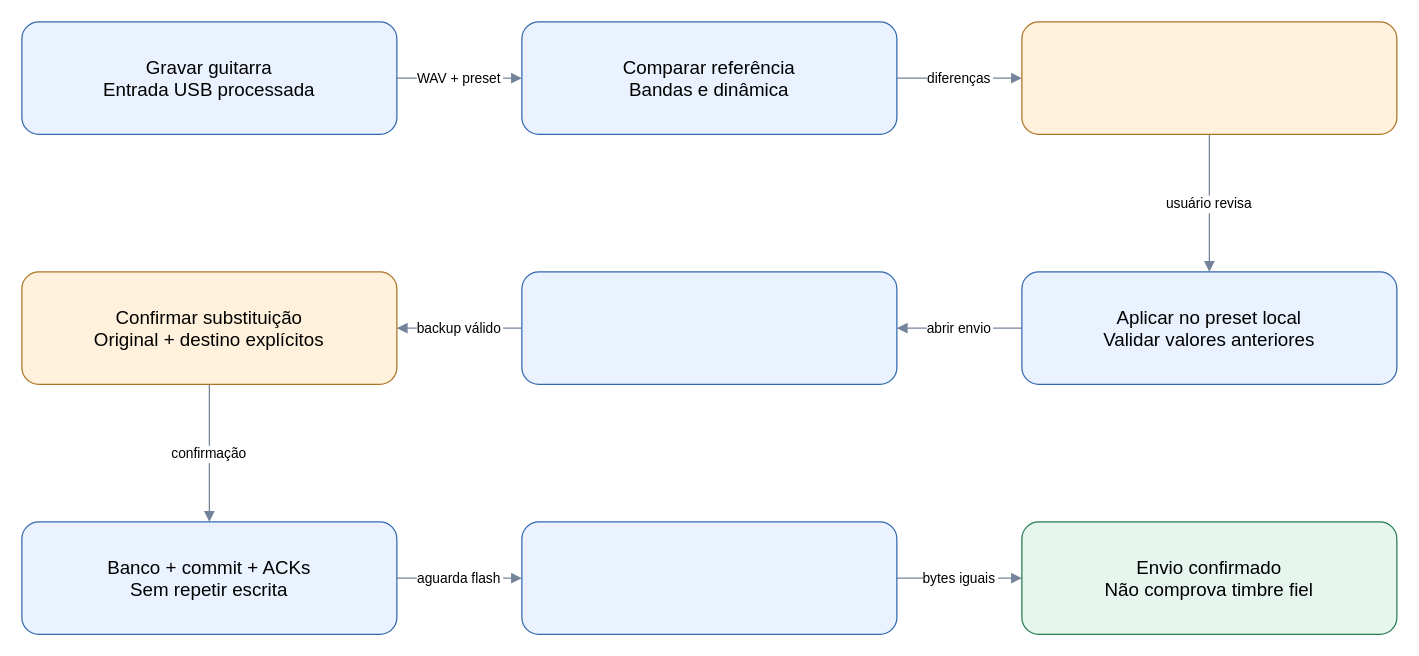
The diagram is 1419 pixels wide and 656 high, and some of its shapes have lost their labels. Each missing label, with the centre of its shape:
Leitura completa Comparar imagem gravada: the point at 709,577
Ler destino e salvar backup Modelo, nome e slot: the point at 709,327
Revisar sugestões EQ conservador: the point at 1209,77
